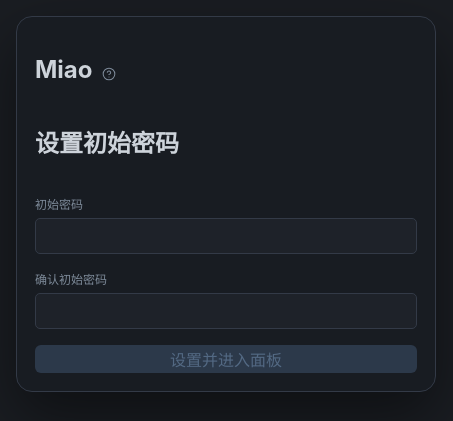
Test case: returns to login if another browser or CLI has already initialized the password
The width and height of the screenshot is (453, 421).
In the password field labelled "初始密码": (226, 236) x1=35 y1=218 x2=417 y2=254, type "initial"
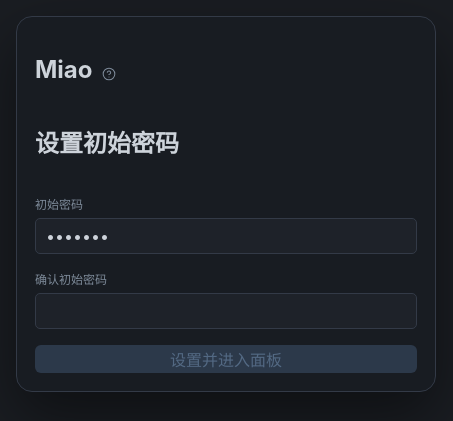
In the password field labelled "确认初始密码": (226, 311) x1=35 y1=293 x2=417 y2=329, type "initial"
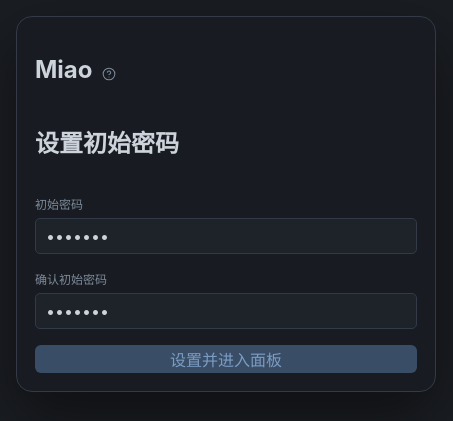
Click the button "设置并进入面板": (226, 359) x1=35 y1=345 x2=417 y2=373
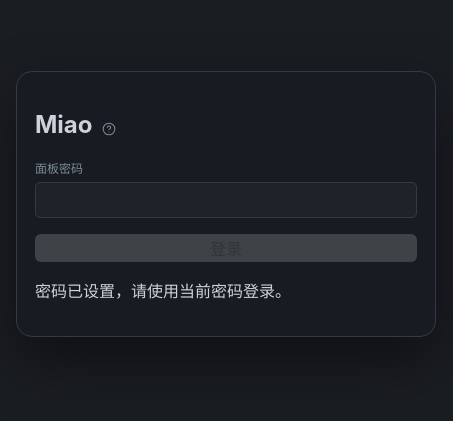
expect the password field labelled "面板密码" is empty: met, box x1=35 y1=182 x2=417 y2=218
expect the text "密码已设置，请使用当前密码登录。" is shown: met, box x1=35 y1=281 x2=291 y2=301
